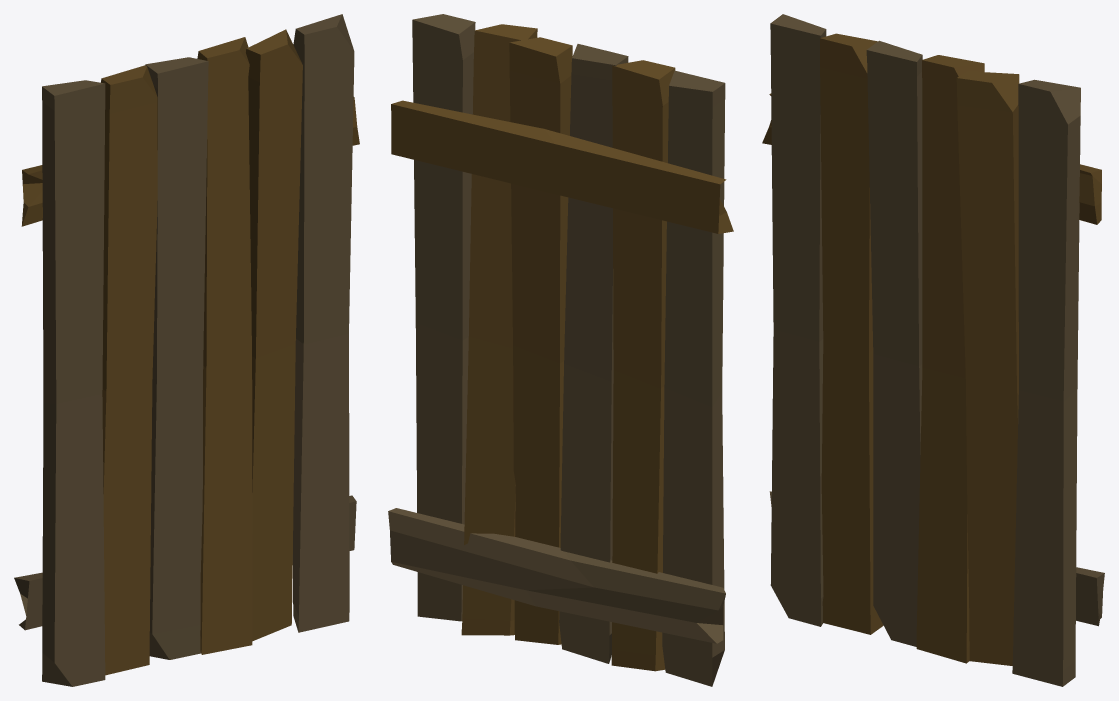
File: enchantedforest_door_1.fbx
3 views of the same model, side by side, from view 1: azimuth 30°, elevation 25°; view 2: azimuth 150°, elevation 25°; view 3: azimuth 330°, elevation 25° (orthographic).
Parts seen in each view (by area): view 1: Cube.052; view 2: Cube.052; view 3: Cube.052.
Boxes of the visible parts, x1,y1,x2,y2 form: Cube.052: [14, 14, 359, 686]; Cube.052: [388, 14, 733, 686]; Cube.052: [762, 14, 1104, 686].
Bounding box in the file's own units: 1.48 × 2.51 × 0.2366.
